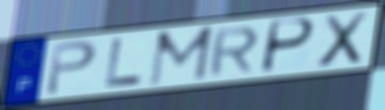L: (103, 37, 145, 89)
M: (146, 24, 216, 89)
P: (258, 16, 317, 75), (43, 38, 100, 98)
R: (206, 25, 262, 78)
X: (314, 9, 371, 71)
